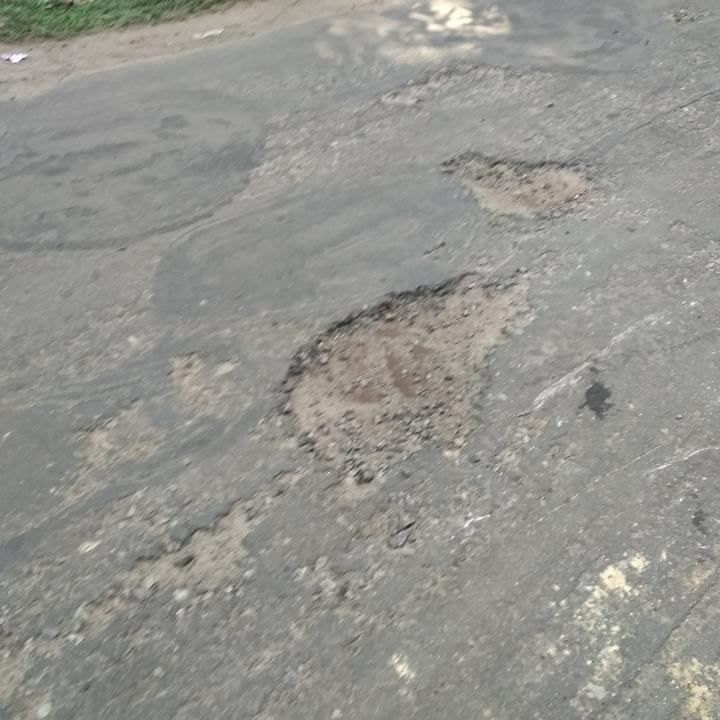pothole: (283, 265, 539, 481), (445, 145, 605, 218)
